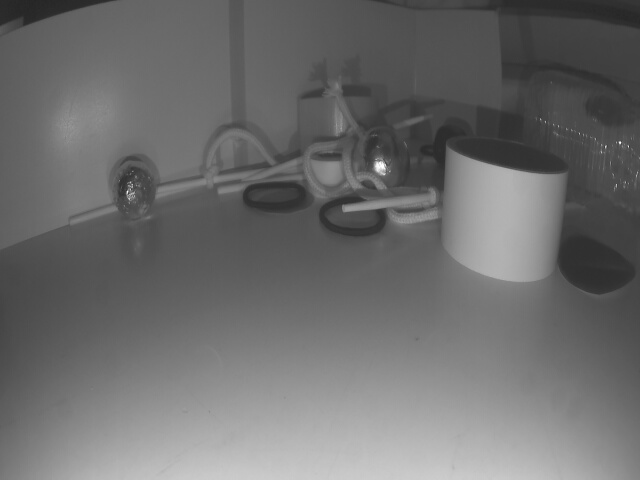Live: (355, 125, 412, 193), (113, 162, 158, 215)
